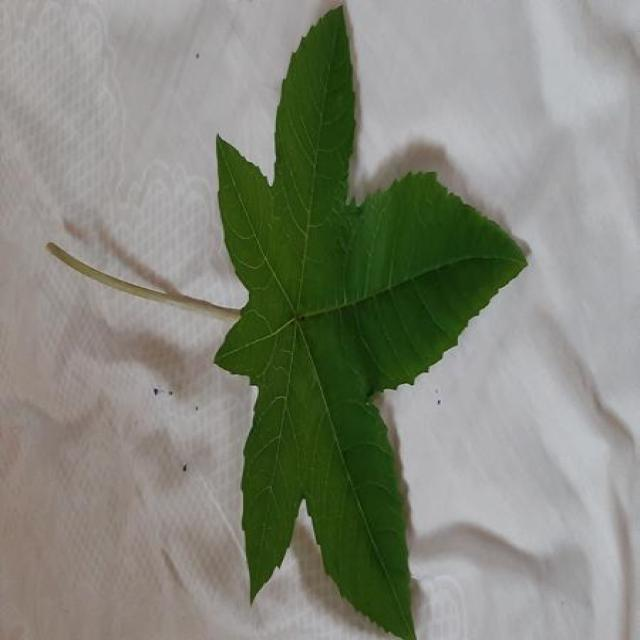castor: (215, 8, 525, 640)
